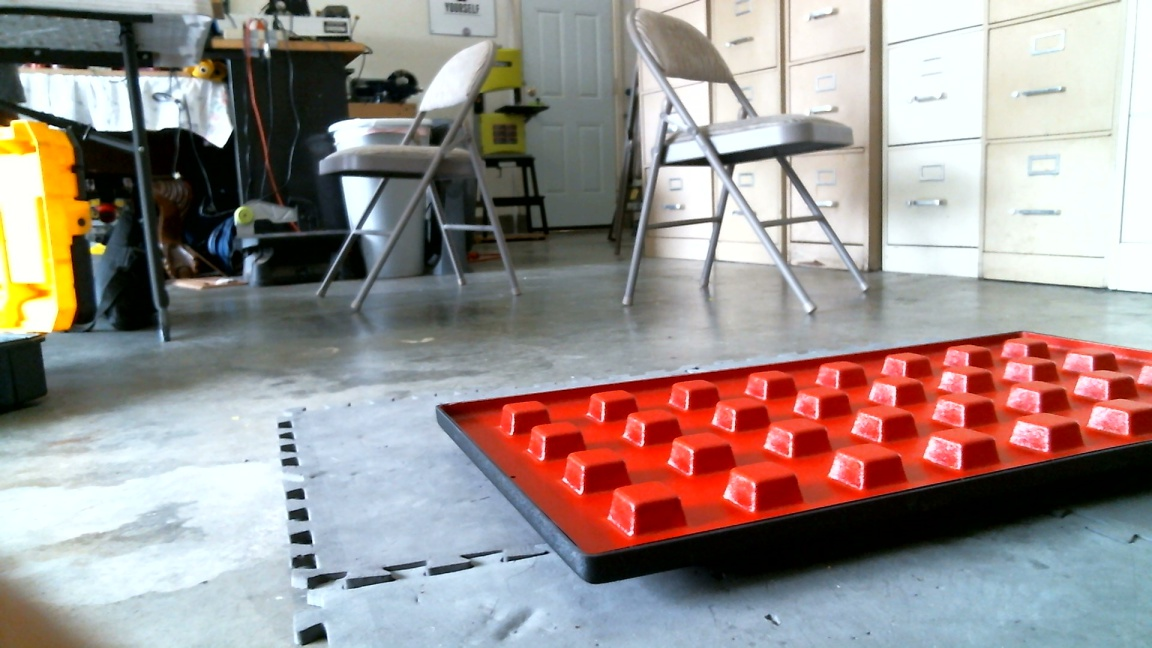red_foundation: (435, 328, 1152, 585)
